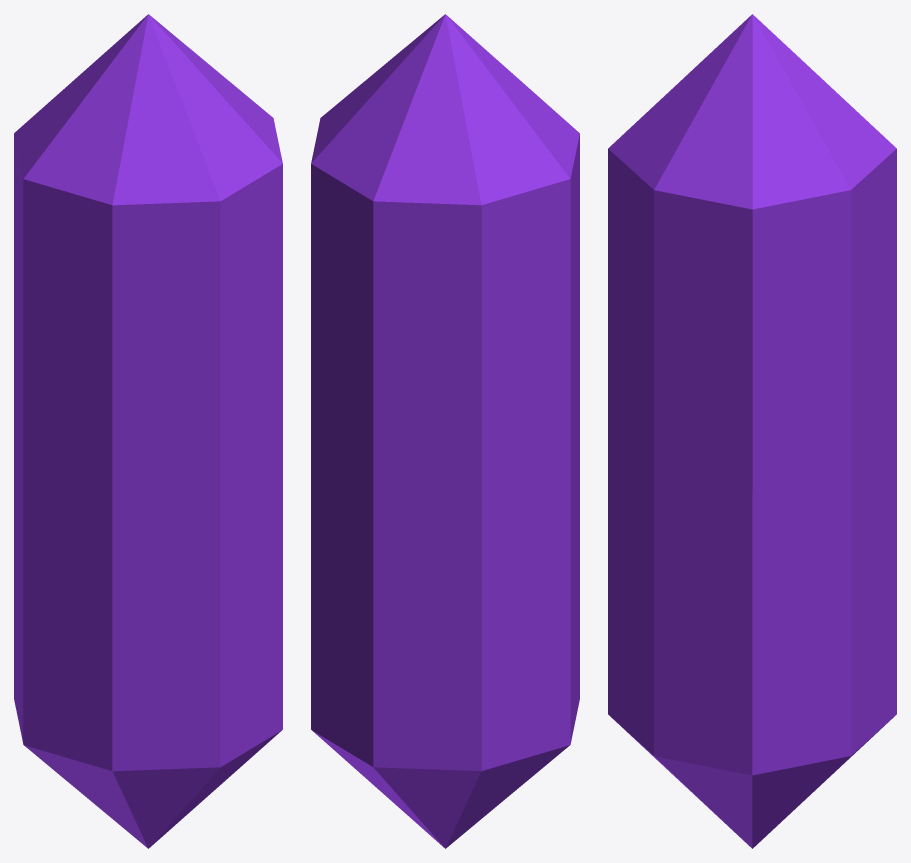
Rendered from Crystal_Element.fbx.
The picture shows the model from 3 angles, left to right: view 1: azimuth 30°, elevation 25°; view 2: azimuth 150°, elevation 25°; view 3: azimuth 270°, elevation 25°; orthographic projection.
Visible parts, largest first — view 1: Crystal; view 2: Crystal; view 3: Crystal.
Boxes of the visible parts, x1,y1,x2,y2 form: Crystal: (14, 14, 282, 848); Crystal: (311, 14, 579, 848); Crystal: (608, 14, 896, 848).
Size of the model in its own units: 18.41 by 58.75 by 18.41.
